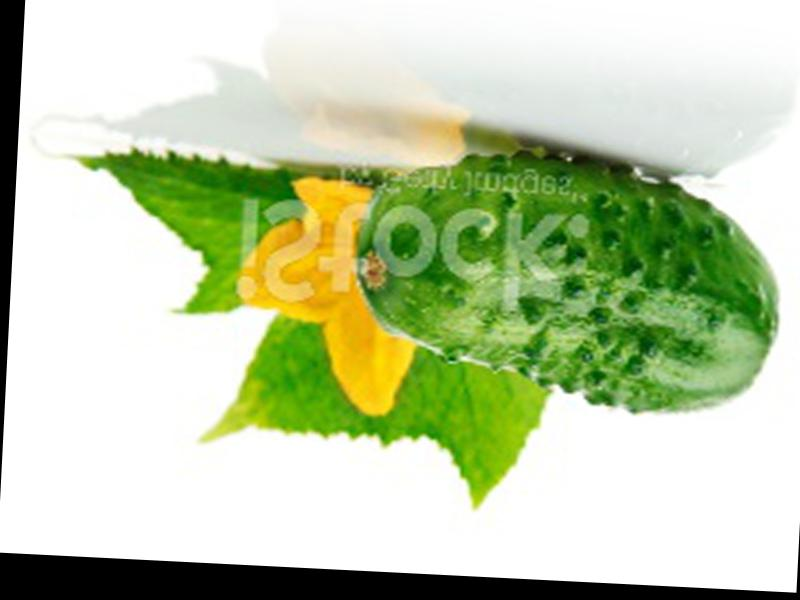Cucumber: (355, 147, 786, 419)
